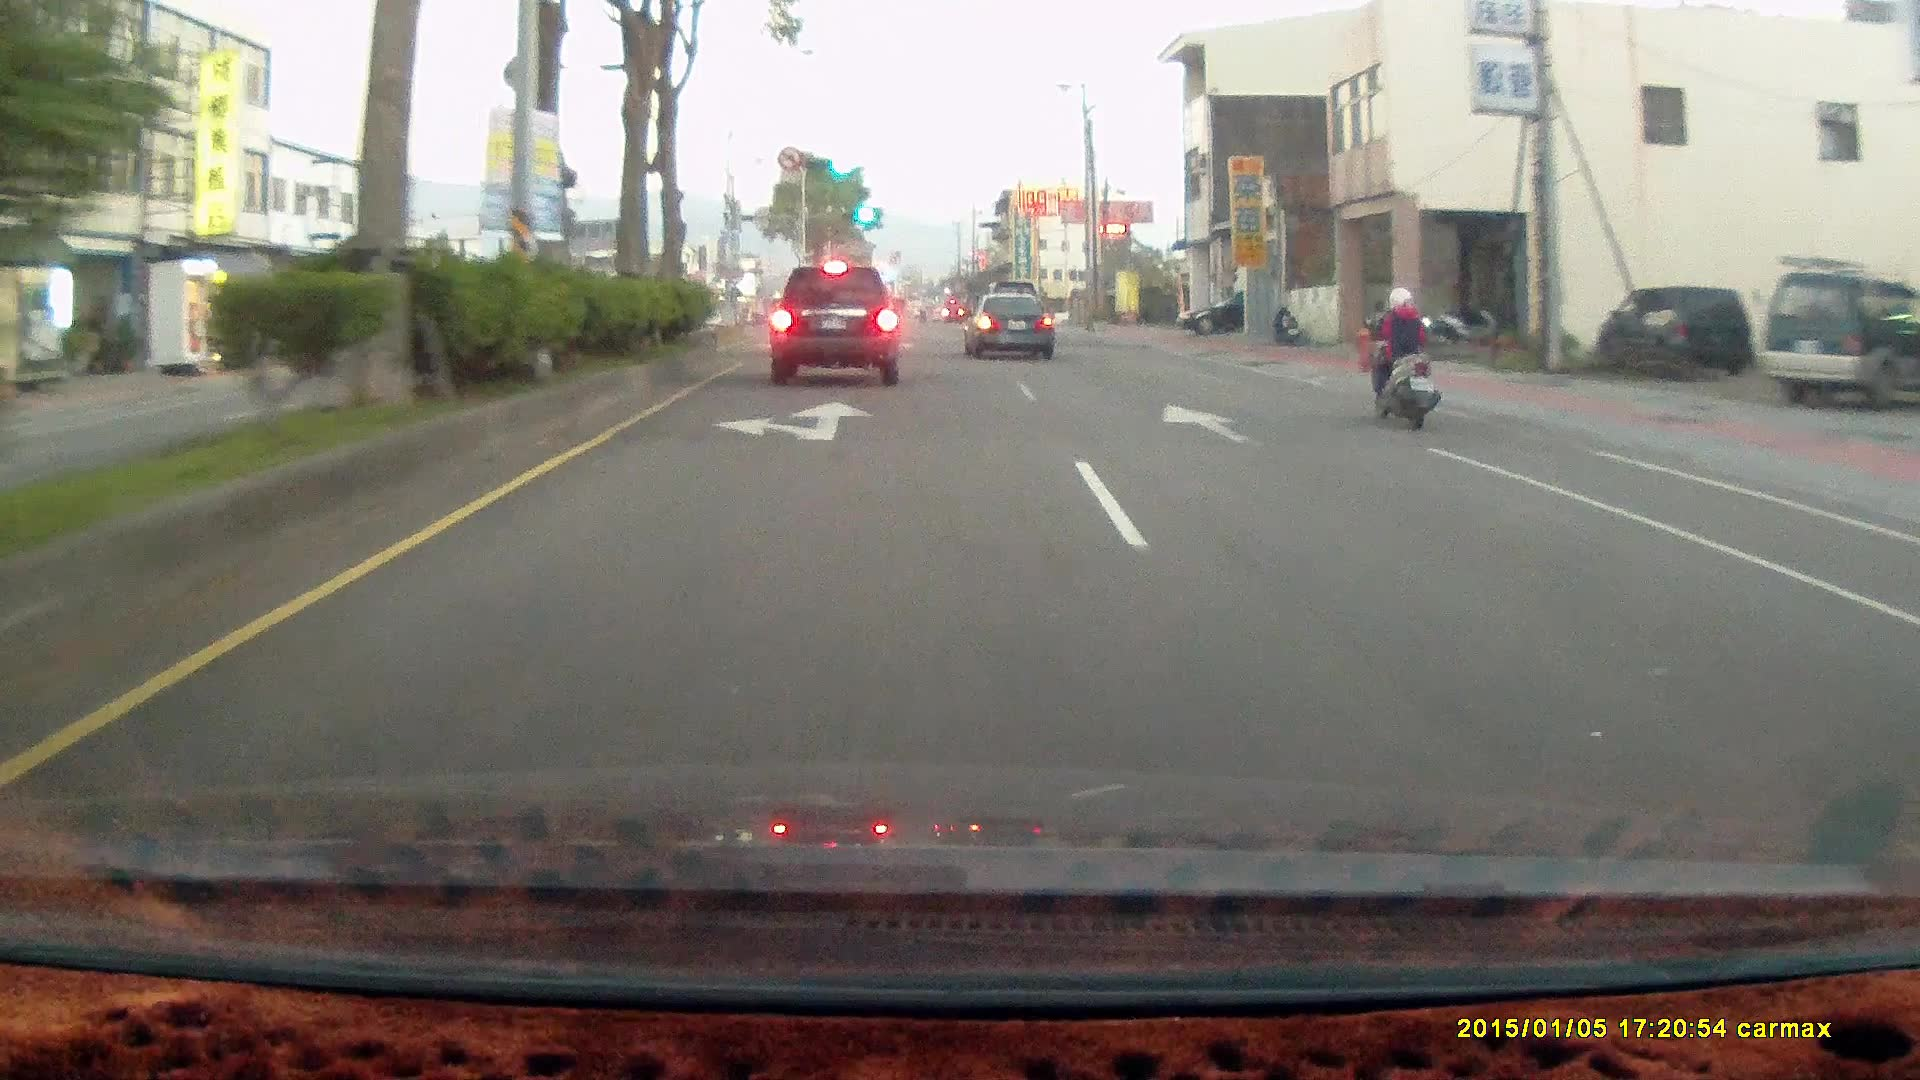rider: (1348, 273, 1453, 440), (1361, 283, 1440, 428)
vehicle: (1759, 271, 1920, 407), (1765, 272, 1911, 406), (771, 263, 904, 385), (773, 256, 904, 379), (1595, 282, 1752, 377), (1595, 282, 1750, 376), (962, 293, 1058, 362), (963, 292, 1052, 358), (1177, 288, 1294, 336), (1176, 289, 1248, 339)
